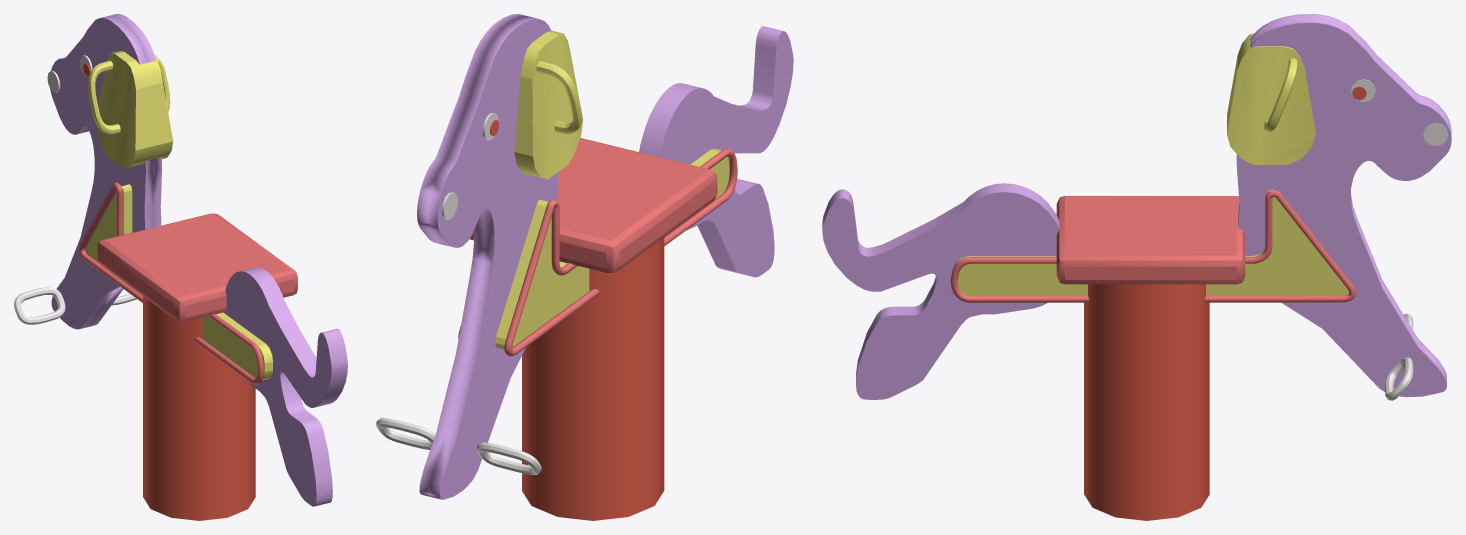
File: Caballito_01.fbx
3 views of the same model, side by side, from view 1: azimuth 30°, elevation 25°; view 2: azimuth 150°, elevation 25°; view 3: azimuth 270°, elevation 25° (orthographic). The views are drawn at different scales.
Visible parts, largest first — view 1: Caballito_01.009, Caballito_01.015, Caballito_01.014, Caballito_01.001, Caballito_01.012, Caballito_01.016, Caballito_01.019, Caballito_01.003, Caballito_01.011; view 2: Caballito_01.009, Caballito_01.014, Caballito_01.015, Caballito_01.001, Caballito_01.012, Caballito_01.016, Caballito_01.019, Caballito_01.011, Caballito_01.003, Caballito_01.010; view 3: Caballito_01.014, Caballito_01.009, Caballito_01.015, Caballito_01.001, Caballito_01.016, Caballito_01.012, Caballito_01.020, Caballito_01.003, Caballito_01.010.
Boxes of the visible parts, x1,y1,x2,y2 form: Caballito_01.009: [143, 296, 255, 520]; Caballito_01.015: [223, 267, 347, 506]; Caballito_01.014: [50, 14, 161, 329]; Caballito_01.001: [97, 213, 297, 321]; Caballito_01.012: [96, 51, 173, 168]; Caballito_01.016: [86, 184, 272, 380]; Caballito_01.019: [79, 182, 263, 384]; Caballito_01.003: [88, 55, 170, 134]; Caballito_01.011: [14, 287, 65, 324]; Caballito_01.009: [522, 237, 664, 520]; Caballito_01.014: [417, 14, 558, 499]; Caballito_01.015: [639, 26, 793, 277]; Caballito_01.001: [470, 138, 717, 273]; Caballito_01.012: [514, 30, 583, 179]; Caballito_01.016: [495, 148, 729, 348]; Caballito_01.019: [504, 148, 737, 356]; Caballito_01.011: [476, 442, 541, 474]; Caballito_01.003: [536, 61, 581, 133]; Caballito_01.010: [376, 418, 435, 449]; Caballito_01.014: [1236, 14, 1451, 397]; Caballito_01.009: [1084, 284, 1209, 520]; Caballito_01.015: [822, 183, 1059, 399]; Caballito_01.001: [1056, 196, 1245, 284]; Caballito_01.016: [953, 189, 1348, 295]; Caballito_01.012: [1227, 33, 1315, 164]; Caballito_01.020: [950, 190, 1355, 302]; Caballito_01.003: [1264, 58, 1297, 132]; Caballito_01.010: [1385, 357, 1413, 400].
Bounding box in the file's own units: 3.4 × 10.48 × 12.63.
